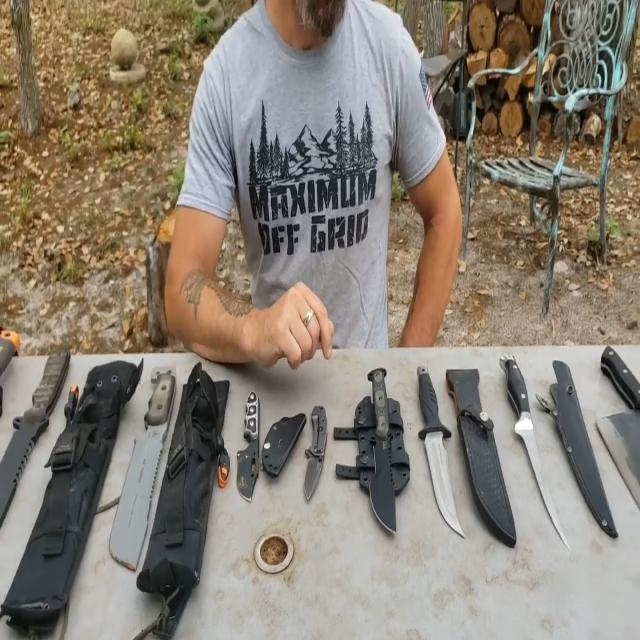knife: (492, 337, 574, 561), (106, 352, 185, 566), (408, 333, 473, 556), (0, 342, 79, 521), (579, 336, 639, 508), (364, 349, 408, 552), (230, 371, 274, 509), (300, 370, 340, 500)
